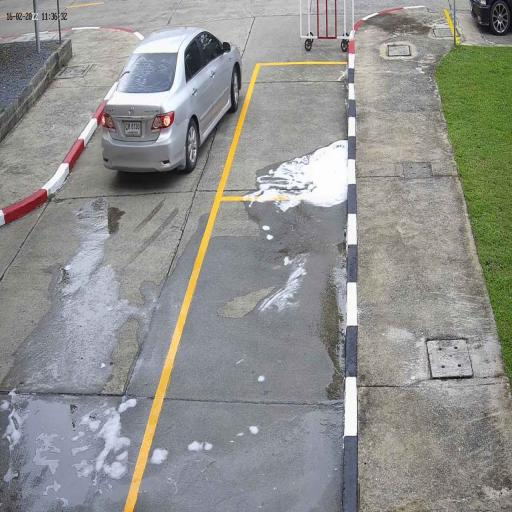car: (100, 26, 245, 176)
